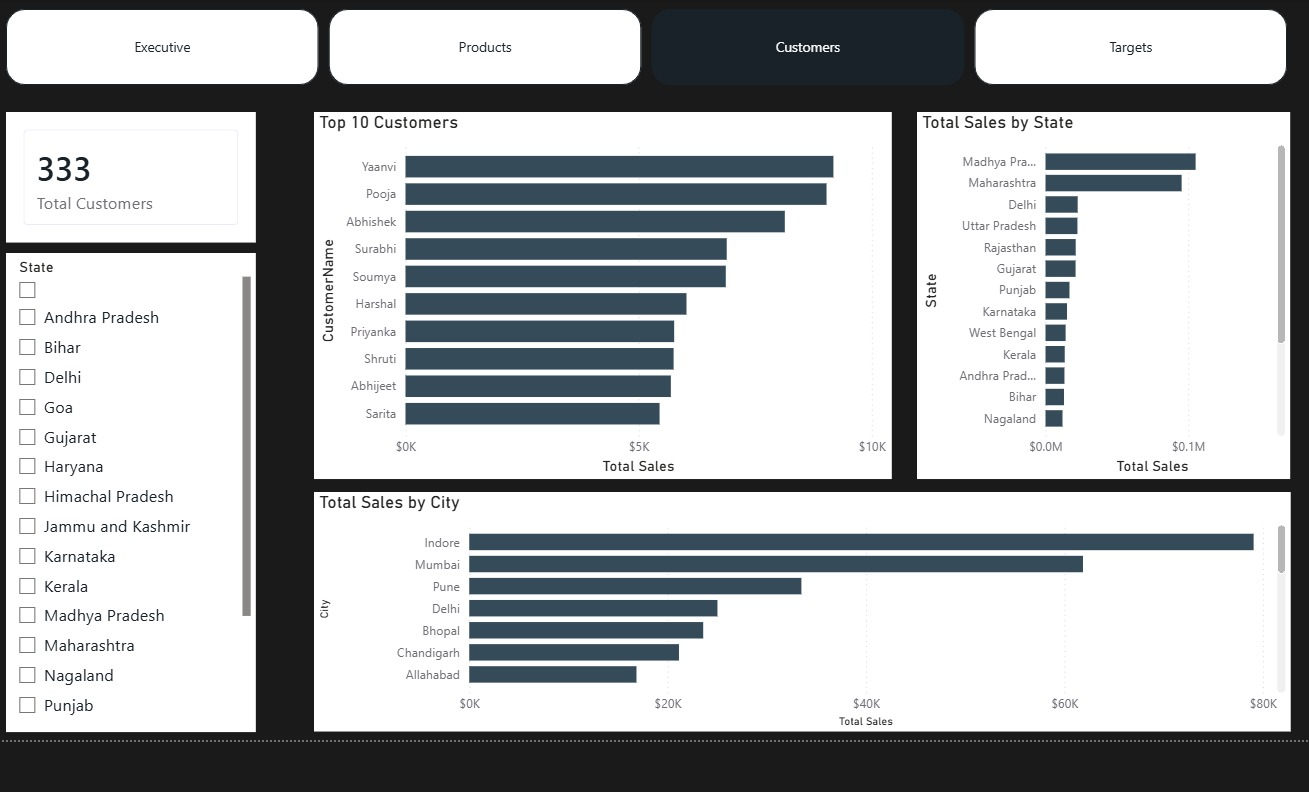

The page's visual inventory and layout, read from the dashboard file:
{"tool":"powerbi","page":{"name":"Customers","canvas":[1280,720],"ordinal":2},"visuals":[{"type":"cardVisual","fields":{"Data":["Calendar.Total Customers"]},"box":[9,108.5,243.1,127.4],"z":0},{"type":"clusteredBarChart","fields":{"Y":["Calendar.Total Sales"],"Category":["List of Orders.State"]},"box":[895.2,108.5,363.3,357],"z":1000},{"type":"clusteredBarChart","fields":{"Category":["List of Orders.City"],"Y":["Calendar.Total Sales"]},"box":[308.6,478.1,949.9,233.2],"z":2000},{"type":"slicer","fields":{"Values":["List of Orders.State"]},"box":[9,245.8,243.1,465.5],"z":3000},{"type":"clusteredBarChart","title":"Top 10 Customers","fields":{"Category":["List of Orders.CustomerName"],"Y":["Calendar.Total Sales"]},"box":[308.6,108.5,561.5,357],"z":4000},{"type":"pageNavigator","box":[9,9,1249.5,74.4],"z":4001}]}

Visuals, with their boxes on the page's 1280x720 design canvas (x1, y1, x2, y2). These are canvas units, not pixel positions in the 1309x792 screenshot, which may show the page scaled, cropped or inside an application window:
cardVisual - Calendar.Total Customers: {"x1": 9, "y1": 108, "x2": 252, "y2": 236}
clusteredBarChart - Calendar.Total Sales x List of Orders.State: {"x1": 895, "y1": 108, "x2": 1258, "y2": 466}
clusteredBarChart - List of Orders.City x Calendar.Total Sales: {"x1": 309, "y1": 478, "x2": 1258, "y2": 711}
slicer - List of Orders.State: {"x1": 9, "y1": 246, "x2": 252, "y2": 711}
"Top 10 Customers" clusteredBarChart: {"x1": 309, "y1": 108, "x2": 870, "y2": 466}
pageNavigator: {"x1": 9, "y1": 9, "x2": 1258, "y2": 83}
